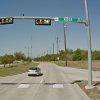Traffic light: (6, 13, 55, 33)
